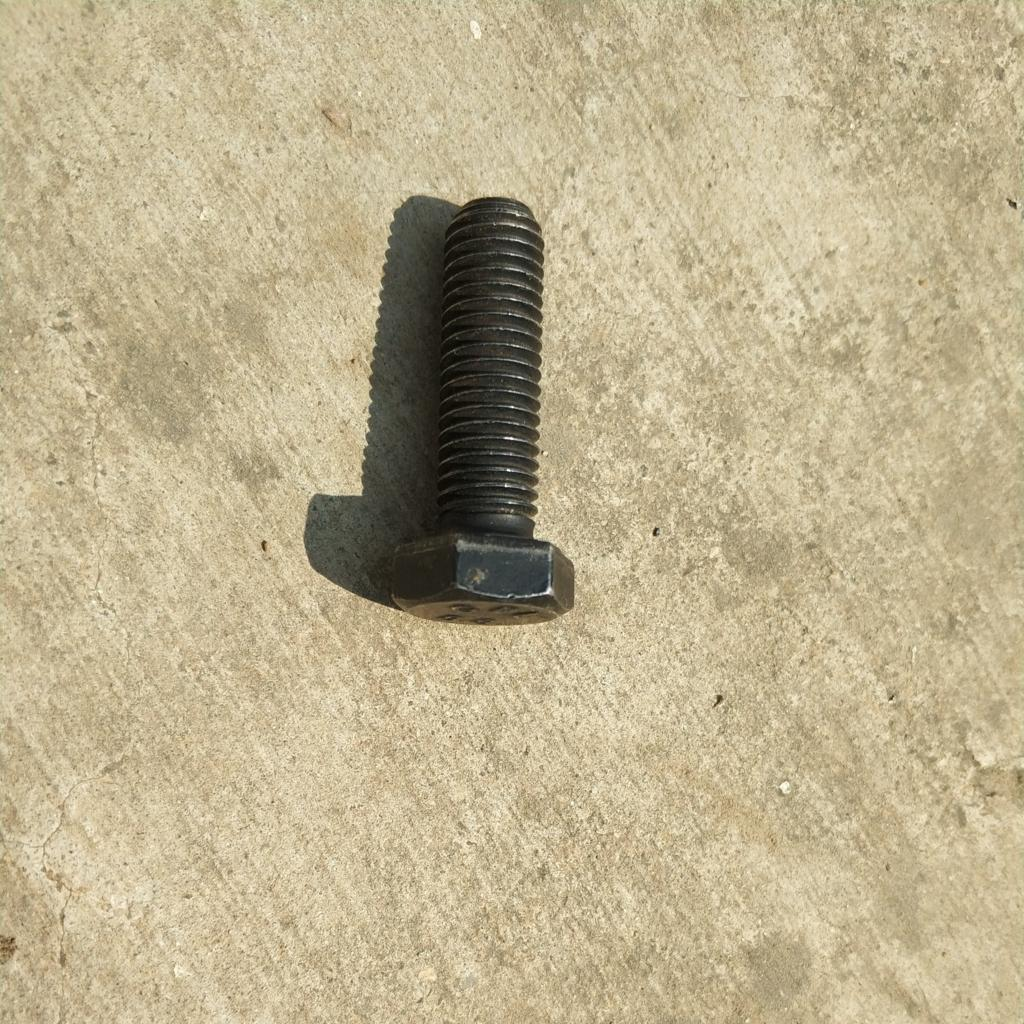screwtype2black: (385, 188, 585, 635)
